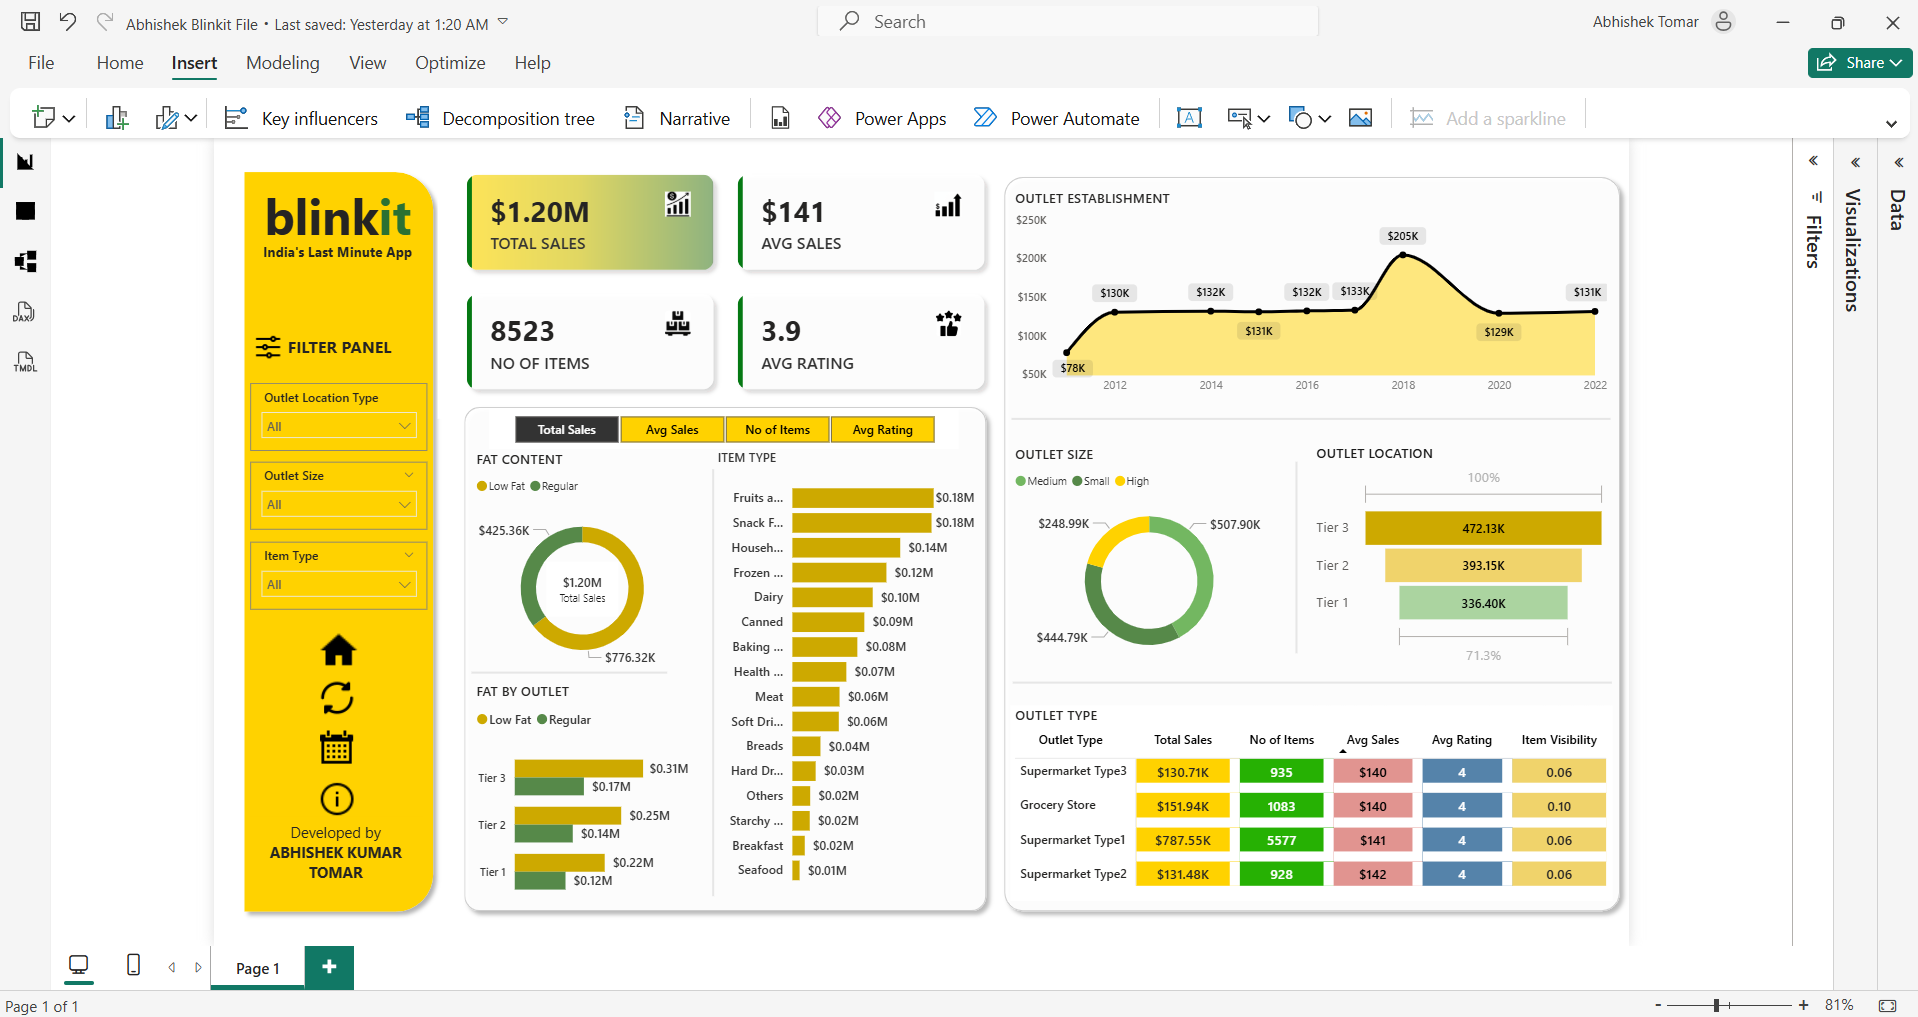

This screenshot's page, from the dashboard's own definition file:
{"tool":"powerbi","page":{"name":"Page 1","canvas":[1400,800],"ordinal":0},"visuals":[{"type":"shape","box":[20.5,24.5,205,750],"z":0},{"type":"textbox","box":[34.1,39.5,175.9,79.1],"z":1000},{"type":"textbox","box":[34.1,99.5,175.9,38.2],"z":2000},{"type":"cardVisual","fields":{"Data":["BlinkIT Grocery Data.Total Sales","BlinkIT Grocery Data.Avg Sales","BlinkIT Grocery Data.No of Items","BlinkIT Grocery Data.Avg Rating"]},"box":[221,7,570,270],"z":3000},{"type":"shape","box":[238.6,257.7,534.4,516.7],"z":4000},{"type":"donutChart","title":"FAT CONTENT","fields":{"Y":["BlinkIT Grocery Data.Total Sales"],"Category":["BlinkIT Grocery Data.Item Fat Content"]},"box":[254.9,308.1,219.5,230.4],"z":5000},{"type":"slicer","fields":{"Values":["Metrics.Metrics"]},"box":[272,269,464.9,39.5],"z":6000},{"type":"cardVisual","fields":{"Data":["BlinkIT Grocery Data.Total Sales"]},"box":[324.5,414.5,81.8,64.1],"z":7000},{"type":"clusteredBarChart","title":" FAT BY OUTLET","fields":{"Y":["BlinkIT Grocery Data.Total Sales"],"Category":["BlinkIT Grocery Data.Outlet Location Type"],"Series":["BlinkIT Grocery Data.Item Fat Content"]},"box":[254.4,538,220,231.5],"z":8000},{"type":"shape","box":[254.9,519.4,193.6,19.1],"z":9000},{"type":"shape","box":[462.2,327.2,62.7,422.6],"z":10000},{"type":"barChart","title":" ITEM TYPE","fields":{"Y":["BlinkIT Grocery Data.Total Sales"],"Category":["BlinkIT Grocery Data.Item Type"]},"box":[493.5,308.1,264.5,441.7],"z":11000},{"type":"shape","box":[773,30,627.1,744.4],"z":12000},{"type":"lineChart","title":" OUTLET ESTABLISHMENT","fields":{"Category":["BlinkIT Grocery Data.Outlet Establishment Year"],"Y":["BlinkIT Grocery Data.Total Sales"]},"box":[791.6,44.5,596.2,212.7],"z":13000},{"type":"shape","box":[790.7,529,593.1,19.1],"z":14000},{"type":"donutChart","title":"OUTLET SIZE","fields":{"Y":["BlinkIT Grocery Data.Total Sales"],"Category":["BlinkIT Grocery Data.Outlet Size"]},"box":[788,302.7,275.4,225],"z":15000},{"type":"shape","box":[1064.8,320.4,12.3,189.5],"z":16000},{"type":"funnel","title":" OUTLET LOCATION","fields":{"Y":["Sum(BlinkIT Grocery Data.Sales)"],"Category":["BlinkIT Grocery Data.Outlet Location Type"]},"box":[1086.6,301.3,297.2,225],"z":17000},{"type":"shape","box":[789.4,268.6,593.1,19.1],"z":18000},{"type":"pivotTable","title":"OUTLET TYPE","fields":{"Rows":["BlinkIT Grocery Data.Outlet Type"],"Values":["BlinkIT Grocery Data.Total Sales","BlinkIT Grocery Data.No of Items","BlinkIT Grocery Data.Avg Sales","BlinkIT Grocery Data.Avg Rating","Avg(BlinkIT Grocery Data.Item Visibility)"]},"box":[788,562,595.8,193.6],"z":19000},{"type":"slicer","fields":{"Values":["BlinkIT Grocery Data.Outlet Location Type"]},"box":[35.6,242.9,175.5,67.4],"z":20000},{"type":"slicer","fields":{"Values":["BlinkIT Grocery Data.Outlet Size"]},"box":[35.6,320.5,175.5,67.4],"z":21000},{"type":"slicer","fields":{"Values":["BlinkIT Grocery Data.Item Type"]},"box":[35.6,399.3,175.5,67.4],"z":22000},{"type":"textbox","box":[36.8,190.9,174.5,40.9],"z":23000},{"type":"image","box":[38,192,30,30],"z":24000},{"type":"image","box":[100.9,486.7,43.6,39.5],"z":25000},{"type":"image","box":[100.9,537.2,40.9,34.1],"z":26000},{"type":"image","box":[98.2,586.2,47.7,32.7],"z":27000},{"type":"image","box":[88.6,634,65.4,39.5],"z":28000},{"type":"textbox","box":[34.1,672.1,171.8,76.3],"z":29000}]}

Visuals, with their boxes on the page's 1400x800 design canvas (x1, y1, x2, y2). These are canvas units, not pixel positions in the 1918x1017 screenshot, which may show the page scaled, cropped or inside an application window:
shape: 20:24:226:774
textbox: 34:40:210:119
textbox: 34:100:210:138
cardVisual - BlinkIT Grocery Data.Total Sales x BlinkIT Grocery Data.Avg Sales: 221:7:791:277
shape: 239:258:773:774
"FAT CONTENT" donutChart: 255:308:474:538
slicer - Metrics.Metrics: 272:269:737:308
cardVisual - BlinkIT Grocery Data.Total Sales: 324:414:406:479
" FAT BY OUTLET" clusteredBarChart: 254:538:474:770
shape: 255:519:448:538
shape: 462:327:525:750
" ITEM TYPE" barChart: 494:308:758:750
shape: 773:30:1400:774
" OUTLET ESTABLISHMENT" lineChart: 792:44:1388:257
shape: 791:529:1384:548
"OUTLET SIZE" donutChart: 788:303:1063:528
shape: 1065:320:1077:510
" OUTLET LOCATION" funnel: 1087:301:1384:526
shape: 789:269:1382:288
"OUTLET TYPE" pivotTable: 788:562:1384:756
slicer - BlinkIT Grocery Data.Outlet Location Type: 36:243:211:310
slicer - BlinkIT Grocery Data.Outlet Size: 36:320:211:388
slicer - BlinkIT Grocery Data.Item Type: 36:399:211:467
textbox: 37:191:211:232
image: 38:192:68:222
image: 101:487:144:526
image: 101:537:142:571
image: 98:586:146:619
image: 89:634:154:674
textbox: 34:672:206:748
